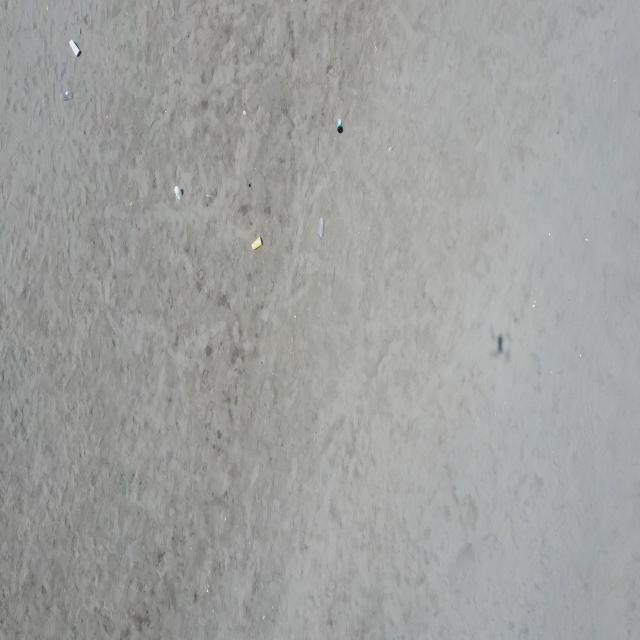takeaway-cup: (69, 39, 80, 58), (316, 216, 324, 238), (252, 236, 262, 251), (59, 90, 71, 101), (174, 186, 182, 200), (337, 118, 343, 133)
